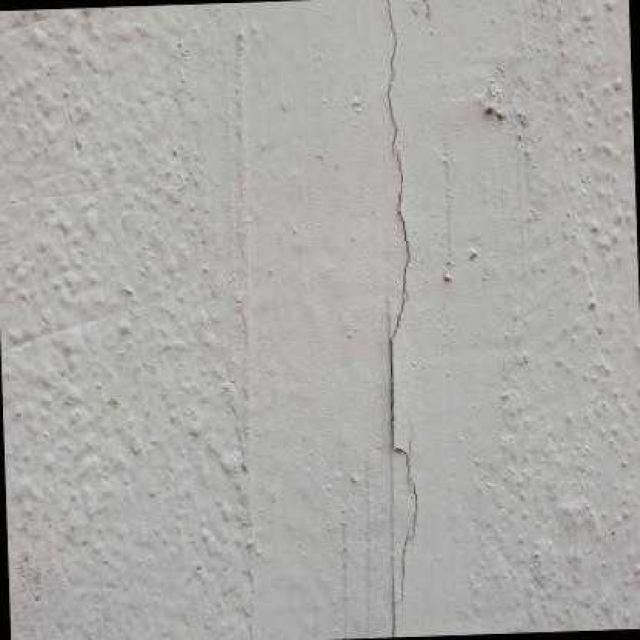D00: (383, 0, 423, 638)
